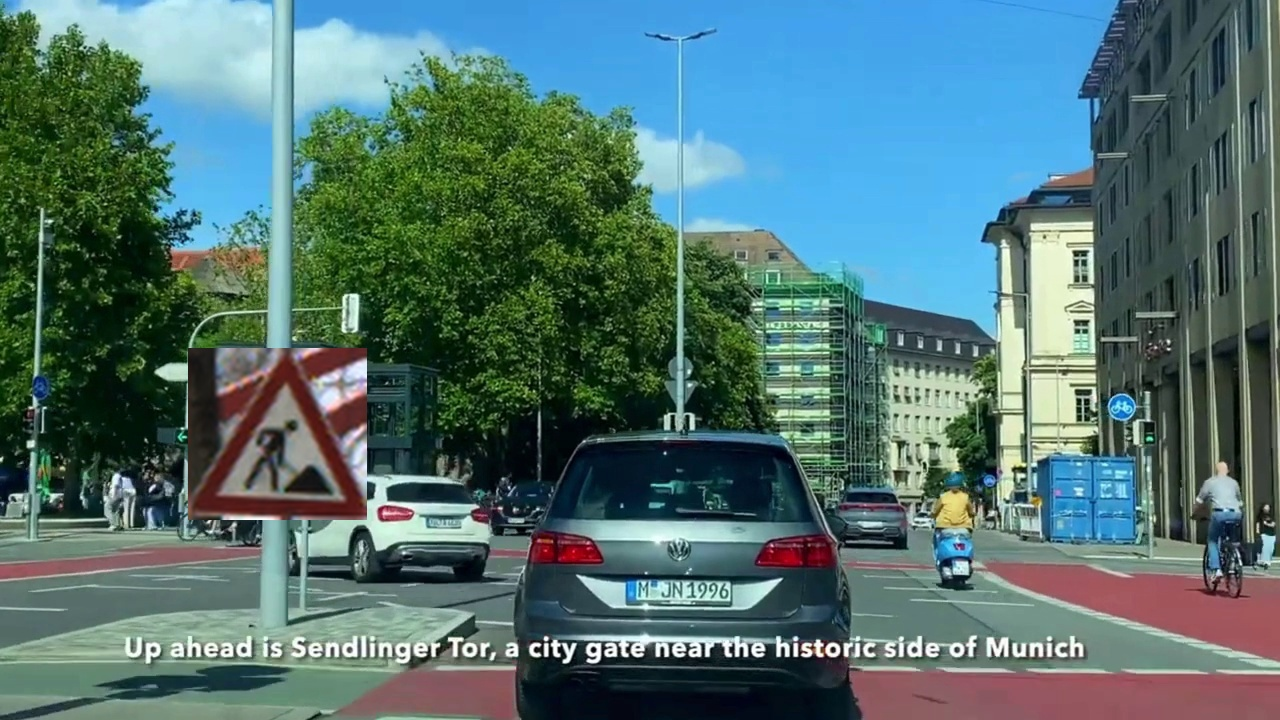Road work: (188, 348, 367, 520)
